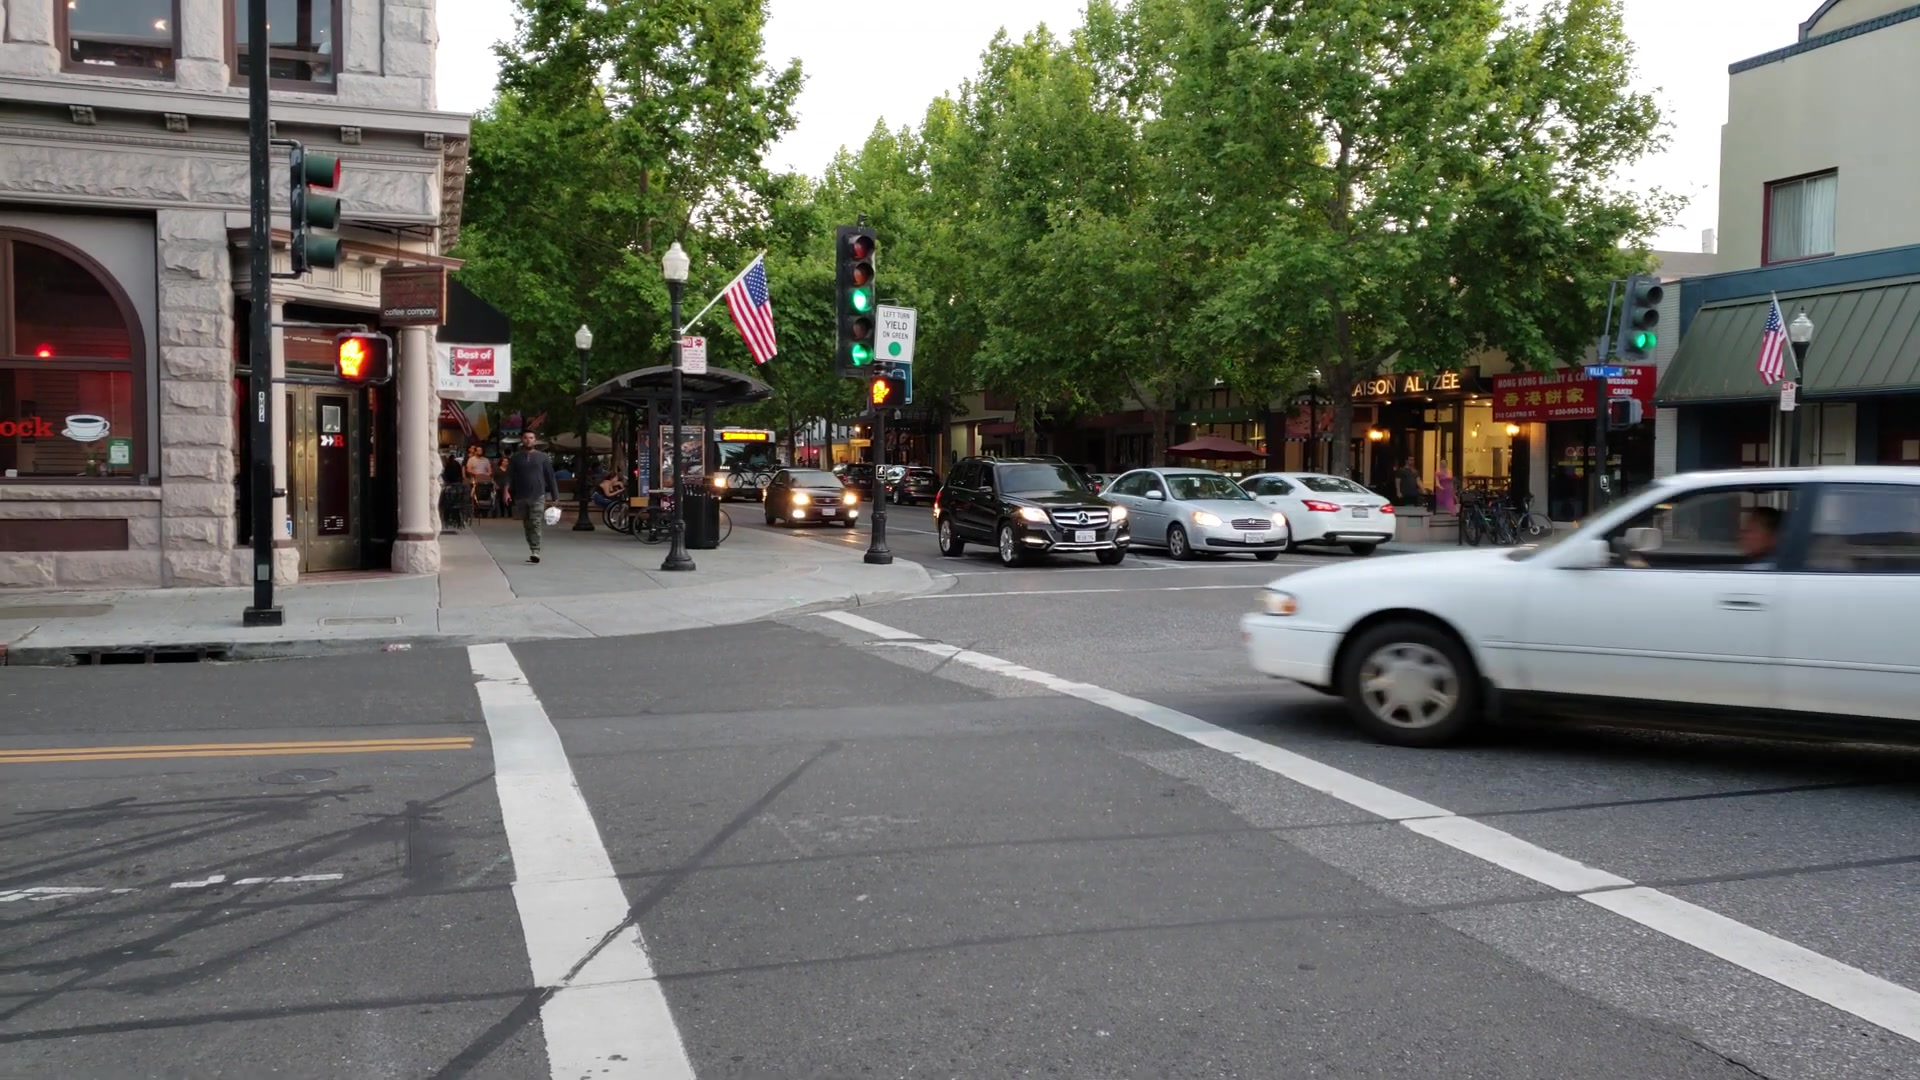vehicle: (1241, 465, 1920, 752), (934, 454, 1127, 564), (1108, 465, 1288, 560), (762, 465, 861, 529)
